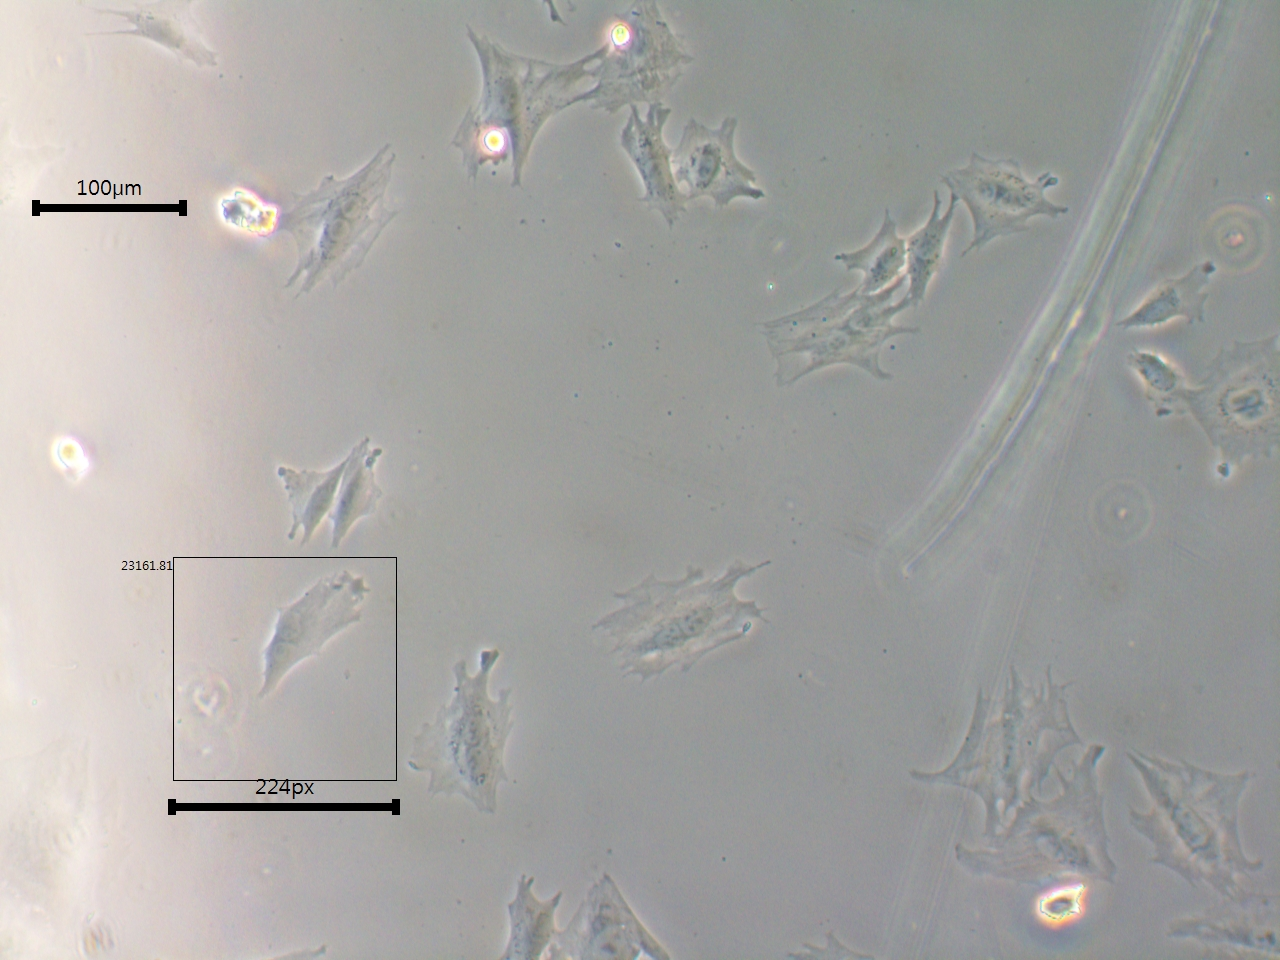dividing: (595, 560, 780, 691), (400, 642, 530, 826), (276, 141, 398, 303), (748, 293, 915, 400), (246, 570, 370, 707), (943, 145, 1066, 258)
medium-polygonal: (469, 33, 580, 175), (617, 104, 689, 231), (328, 425, 391, 556), (263, 444, 337, 554)
medium-spread: (913, 664, 1084, 828), (949, 744, 1126, 886), (1119, 737, 1262, 899), (1187, 331, 1277, 499), (667, 113, 773, 209)
small-polygonal: (1113, 259, 1222, 334)
